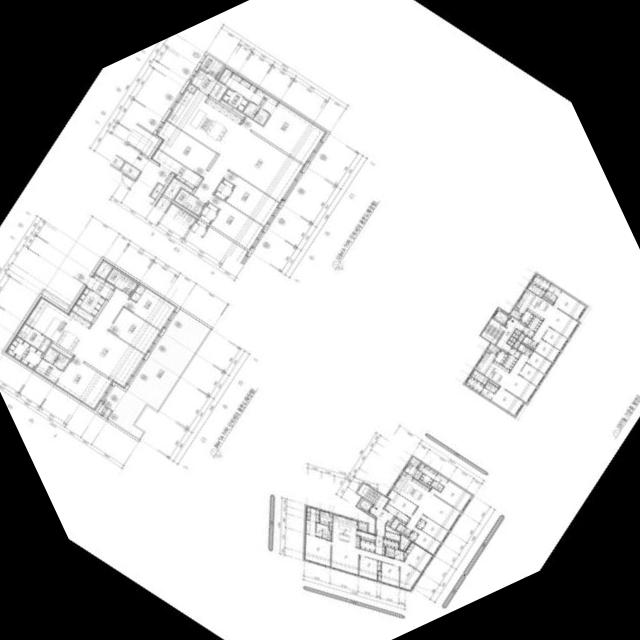background: (0, 0, 640, 640)
space_balconi: (408, 456, 420, 467), (358, 520, 367, 531)
space_bedroom: (241, 101, 327, 164), (155, 119, 216, 176), (209, 194, 265, 250), (224, 170, 280, 226), (55, 356, 113, 410), (124, 282, 177, 330), (108, 307, 161, 354), (429, 479, 472, 511), (490, 386, 523, 416), (553, 290, 586, 319), (404, 541, 433, 572), (386, 489, 417, 517), (304, 533, 330, 566), (413, 526, 441, 554), (421, 514, 449, 542), (542, 326, 568, 350), (526, 350, 552, 374), (519, 362, 544, 386), (534, 338, 560, 361), (377, 561, 399, 587), (359, 555, 381, 580), (214, 178, 234, 200), (199, 202, 219, 223), (416, 518, 426, 529), (408, 530, 418, 541)
space_dressroom: (216, 65, 257, 99), (4, 335, 43, 370), (250, 87, 278, 114), (222, 88, 248, 111), (531, 273, 551, 291), (464, 375, 484, 393), (418, 463, 437, 478), (305, 505, 319, 522), (420, 473, 433, 484)
space_elevator: (124, 124, 159, 156), (492, 307, 510, 325), (357, 497, 373, 513)
space_elevator_hall: (116, 143, 171, 205), (347, 476, 394, 536), (496, 316, 525, 352)
space_front: (150, 148, 202, 189), (86, 273, 115, 299), (384, 503, 409, 523), (526, 315, 542, 331), (502, 353, 517, 369), (383, 537, 399, 549), (375, 535, 384, 554), (360, 539, 374, 551), (509, 346, 521, 358), (522, 326, 534, 337)
space_kitchen: (165, 88, 242, 154), (24, 296, 91, 353), (391, 473, 430, 506), (515, 288, 553, 320), (474, 351, 509, 385), (332, 513, 360, 547), (494, 349, 507, 364), (520, 310, 533, 324)
space_living_room: (193, 124, 304, 202), (73, 287, 145, 388), (331, 540, 421, 590), (405, 491, 461, 530), (501, 352, 537, 403), (531, 305, 579, 342)
space_multipurpose_space: (189, 67, 227, 100), (16, 322, 51, 352)
space_other: (74, 286, 105, 316), (162, 177, 192, 199), (41, 289, 69, 310), (71, 304, 94, 321), (50, 342, 72, 358), (94, 260, 112, 278), (121, 161, 140, 178), (403, 462, 422, 479), (527, 282, 545, 297), (470, 369, 488, 384), (357, 529, 375, 542), (319, 509, 332, 525), (150, 183, 163, 198), (110, 155, 124, 168), (390, 517, 405, 528), (385, 524, 400, 534), (400, 534, 410, 549), (385, 531, 400, 540), (185, 82, 196, 92), (419, 479, 431, 487), (488, 379, 499, 387), (542, 296, 553, 304), (518, 333, 525, 341), (513, 340, 520, 348), (514, 328, 521, 334), (509, 336, 516, 342), (507, 339, 513, 346), (512, 332, 518, 338), (369, 512, 375, 518), (329, 521, 332, 530), (401, 470, 406, 475), (404, 551, 407, 559), (386, 520, 390, 525), (514, 306, 518, 310), (329, 512, 332, 516)
space_outdoor_room: (199, 54, 224, 76), (97, 404, 111, 418), (487, 343, 499, 354), (510, 308, 522, 319)
space_staircase: (481, 318, 505, 344), (359, 482, 381, 499)
space_toilet: (34, 346, 69, 383), (174, 188, 205, 215), (106, 267, 137, 294), (243, 101, 260, 118), (253, 107, 269, 124), (316, 522, 331, 540), (522, 335, 537, 349), (517, 343, 532, 356), (396, 523, 411, 536), (547, 283, 561, 296), (480, 387, 494, 399), (305, 519, 315, 535), (434, 473, 447, 485), (394, 548, 403, 560), (548, 293, 557, 302), (489, 384, 497, 393), (543, 290, 552, 298), (430, 479, 438, 488), (484, 381, 492, 389), (435, 483, 443, 491), (385, 550, 394, 557), (385, 546, 394, 553)
